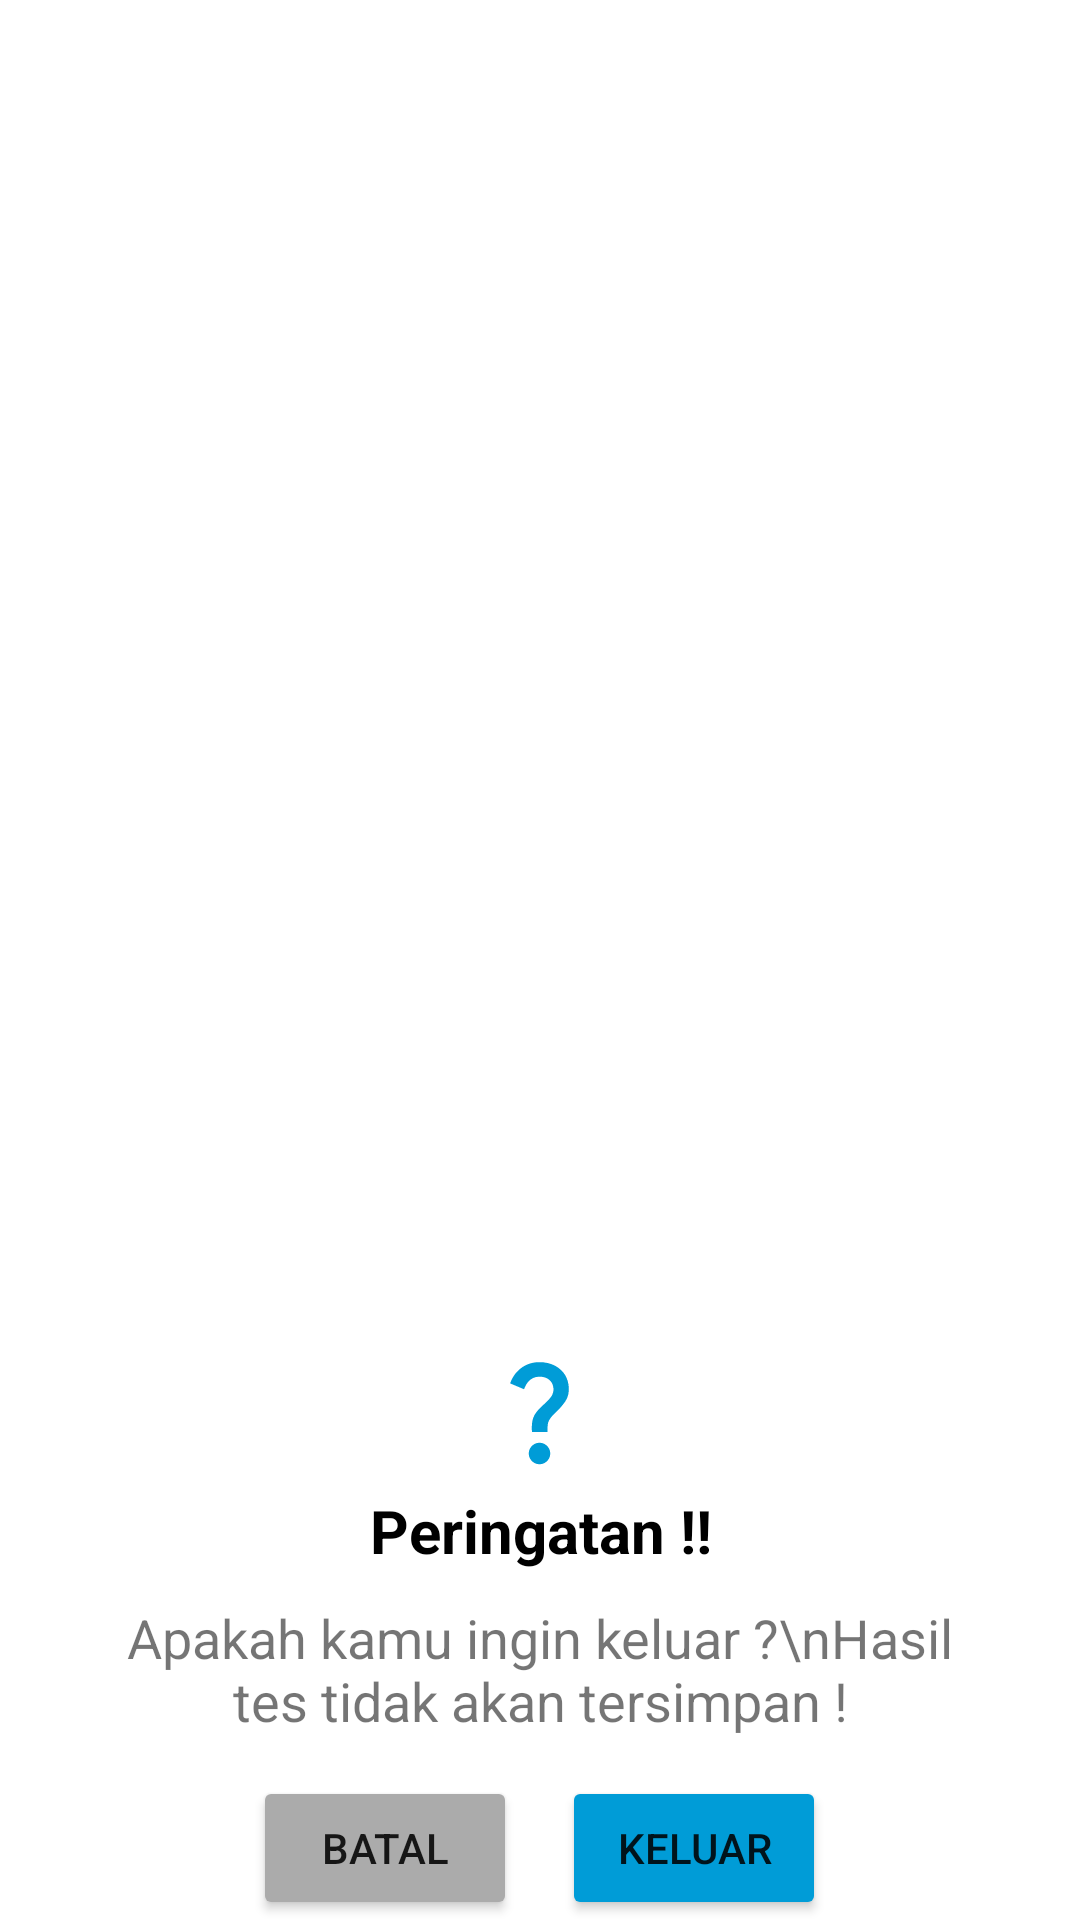

Icon bounding boxes for this 1080x1920 phone screenshot, format (x1, y1, x2, y2):
tanda tanya: (510, 1362, 569, 1465)
